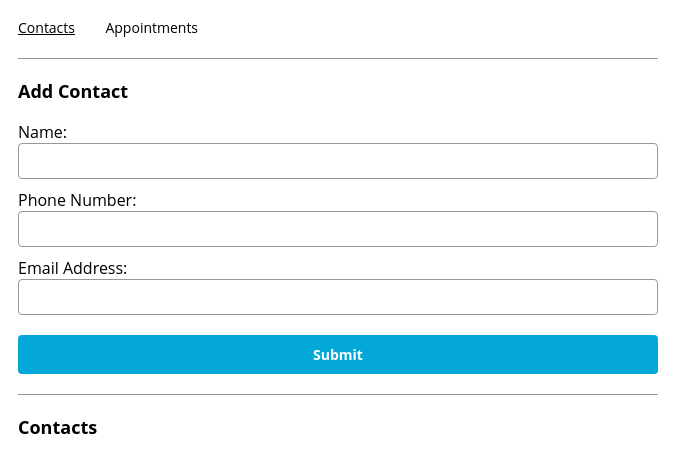
Test case: app navigation › navigates between screens
The image size is (675, 464).
Click the link "Contacts" at (46, 28), box [18,18,75,37]
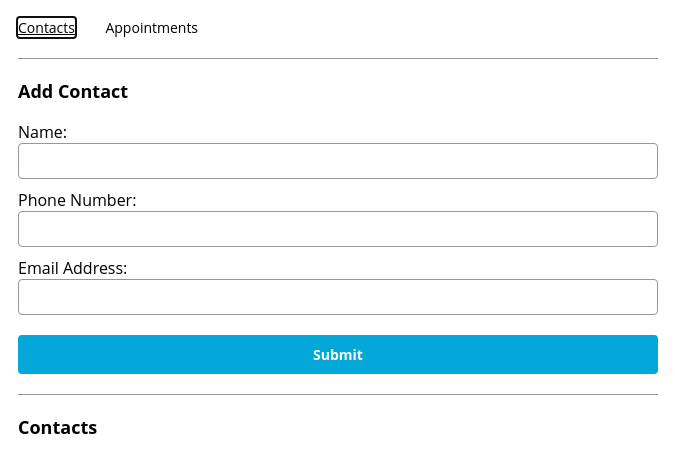
Expected: the heading "Contacts" is shown, [18,415,97,439]
Click the link "Appointments" at (152, 28), box [105,18,198,37]
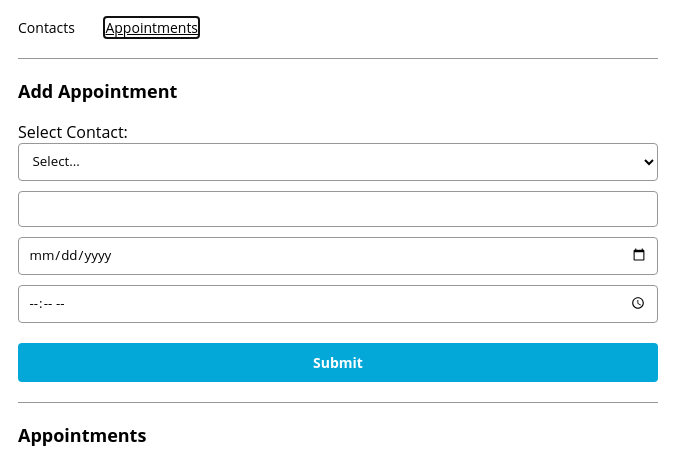
Expected: the heading "Appointments" is shown, [18,423,146,447]
